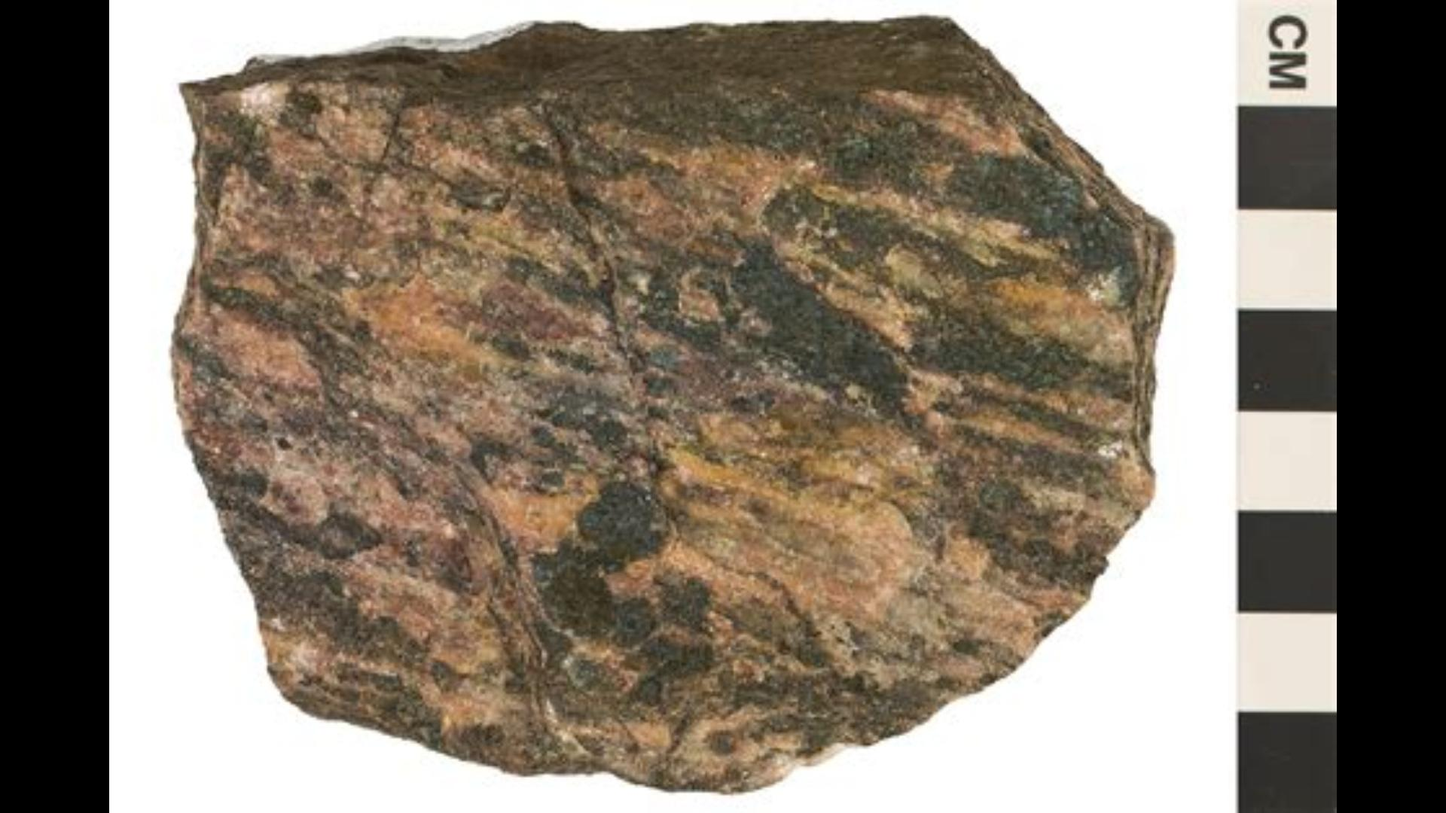rock: (177, 21, 1161, 790)
